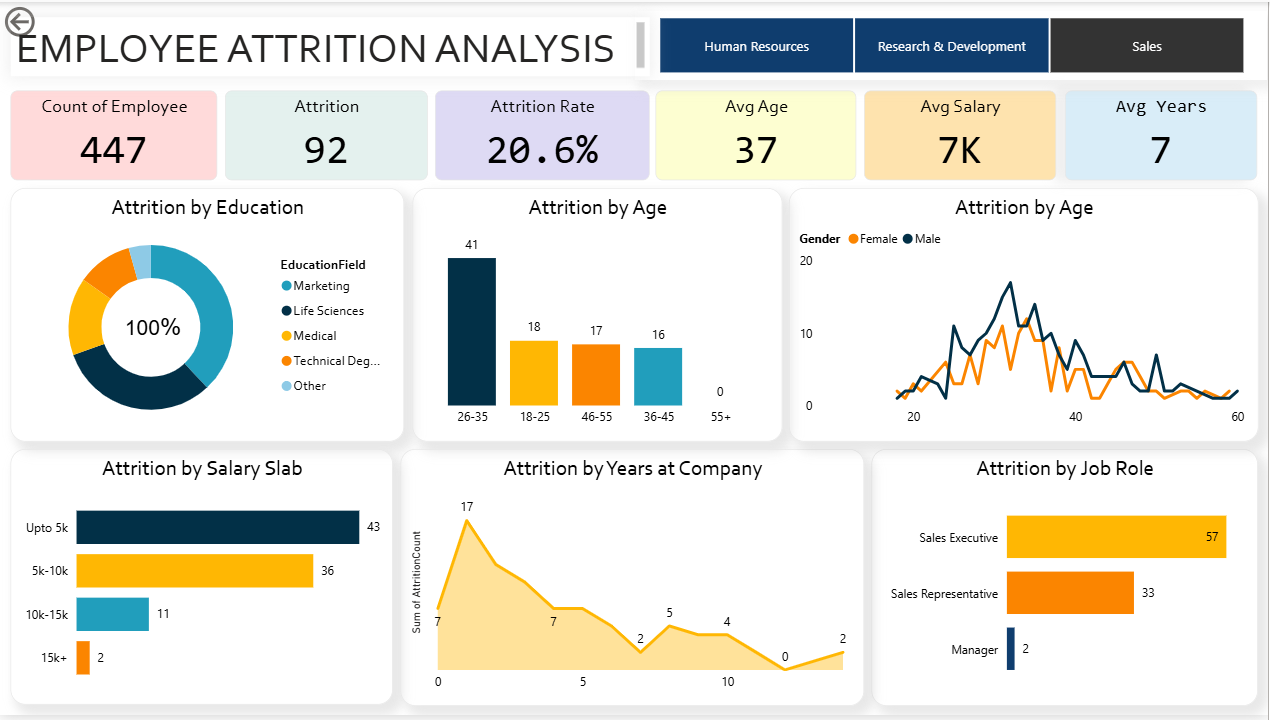

The dashboard page shown, as its layout file describes it:
{"tool":"powerbi","page":{"name":"Page 1","canvas":[1280,720],"ordinal":0},"visuals":[{"type":"card","title":"Count of Employee","fields":{"Values":["Sum(HR_Analytics.EmployeeCount)"]},"box":[10.6,89.3,209,90.9],"z":0},{"type":"card","title":"Attrition","fields":{"Values":["Sum(HR_Analytics.AttritionCount)"]},"box":[227.1,89.3,204.4,90.9],"z":1000},{"type":"card","title":"Attrition Rate","fields":{"Values":["HR_Analytics.AttritionRate"]},"box":[439.1,89.3,216.5,90.9],"z":2000},{"type":"card","title":"Avg Age","fields":{"Values":["Avg(HR_Analytics.Age)"]},"box":[661.7,89.3,202.9,90.9],"z":3000},{"type":"card","title":"Avg Years","fields":{"Values":["Avg(HR_Analytics.YearsAtCompany)"]},"box":[1075.7,89.3,193,91],"z":4000},{"type":"card","title":"Avg Salary","fields":{"Values":["Avg(HR_Analytics.MonthlyIncome)"]},"box":[872.2,89.3,193.8,90.9],"z":5000},{"type":"donutChart","title":" Attrition by Education","fields":{"Category":["HR_Analytics.EducationField"],"Y":["Sum(HR_Analytics.AttritionCount)"]},"box":[11.3,187.1,397,256],"z":6000},{"type":"columnChart","title":" Attrition by Age","fields":{"Category":["HR_Analytics.AgeGroup"],"Y":["Sum(HR_Analytics.AttritionCount)"]},"box":[416.4,187.8,373,255.9],"z":7000},{"type":"actionButton","box":[0,0,100,40],"z":8000},{"type":"clusteredBarChart","title":" Attrition by Salary Slab","fields":{"Category":["HR_Analytics.SalarySlab"],"Y":["Sum(HR_Analytics.AttritionCount)"]},"box":[11.3,450.7,386,258],"z":9000},{"type":"clusteredBarChart","title":" Attrition by Job Role","fields":{"Y":["Sum(HR_Analytics.AttritionCount)"],"Category":["HR_Analytics.JobRole"]},"box":[880.2,450.7,389.8,259.4],"z":10000},{"type":"areaChart","title":" Attrition by Years at Company","fields":{"Category":["HR_Analytics.YearsAtCompany"],"Y":["Sum(HR_Analytics.AttritionCount)"]},"box":[403.9,450.7,468,259.4],"z":11000},{"type":"lineChart","title":" Attrition by Age","fields":{"Category":["HR_Analytics.Age"],"Y":["CountNonNull(HR_Analytics.AttritionCount)"],"Series":["HR_Analytics.Gender"]},"box":[796.5,187.8,473.9,255.9],"z":12000},{"type":"slicer","title":"Filter by Departments","fields":{"Values":["HR_Analytics.Department"]},"box":[576.9,9.1,704,76],"z":13000},{"type":"textbox","box":[10.6,9.1,590.5,63.6],"z":14000}]}

Visuals, with their boxes in screenshot pixels (x1, y1, x2, y2), scaled from the page's 1280x720 canvas onto the 1270x720 screenshot:
"Count of Employee" card: 11 89 218 180
"Attrition" card: 225 89 428 180
"Attrition Rate" card: 436 89 650 180
"Avg Age" card: 657 89 858 180
"Avg Years" card: 1067 89 1259 180
"Avg Salary" card: 865 89 1058 180
" Attrition by Education" donutChart: 11 187 405 443
" Attrition by Age" columnChart: 413 188 783 444
actionButton: 0 0 99 40
" Attrition by Salary Slab" clusteredBarChart: 11 451 394 709
" Attrition by Job Role" clusteredBarChart: 873 451 1260 710
" Attrition by Years at Company" areaChart: 401 451 865 710
" Attrition by Age" lineChart: 790 188 1260 444
"Filter by Departments" slicer: 572 9 1269 85
textbox: 11 9 596 73
